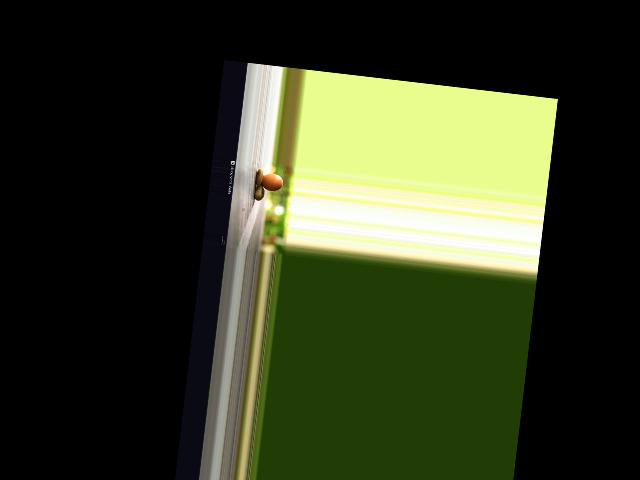egg: (260, 172, 283, 192)
